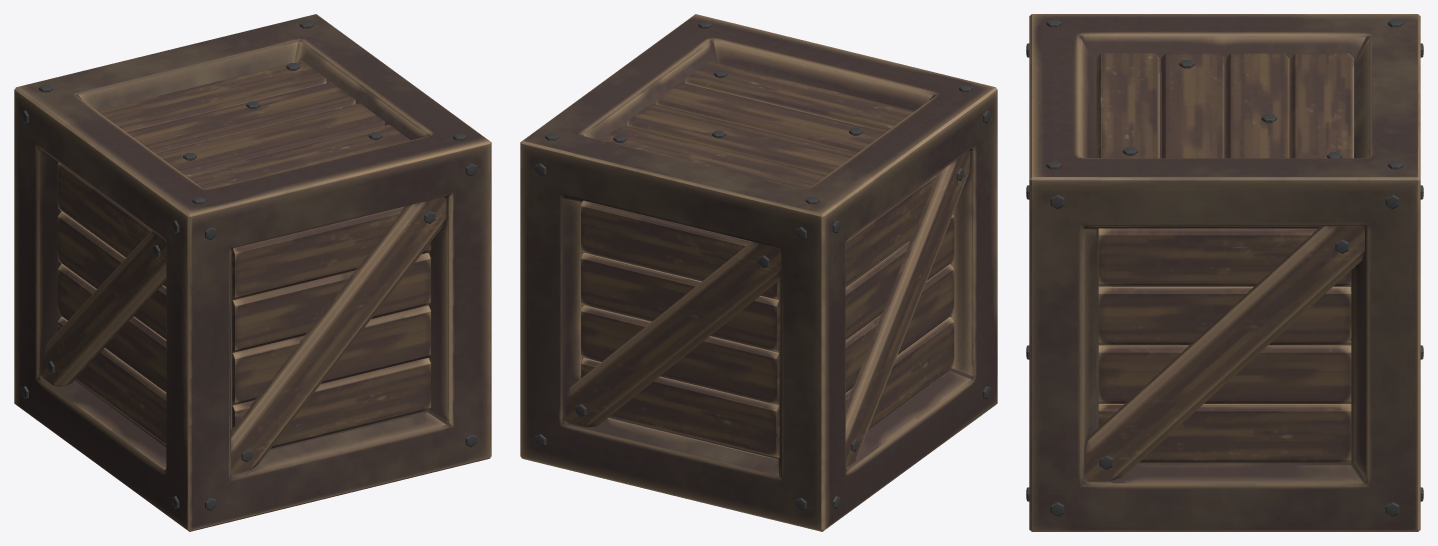
3 renders of one model, left to right at view 1: azimuth 30°, elevation 25°; view 2: azimuth 150°, elevation 25°; view 3: azimuth 270°, elevation 25°, orthographic. The views are drawn at different scales.
Parts seen in each view (by area): view 1: SM_Box; view 2: SM_Box; view 3: SM_Box.
Boxes of the visible parts, x1,y1,x2,y2 form: SM_Box: (14, 14, 491, 531); SM_Box: (520, 14, 997, 531); SM_Box: (1026, 14, 1423, 531).
Size of the model in its own units: 0.7845 by 0.7794 by 0.7842.
Materials: 1 (1 with a texture image).
